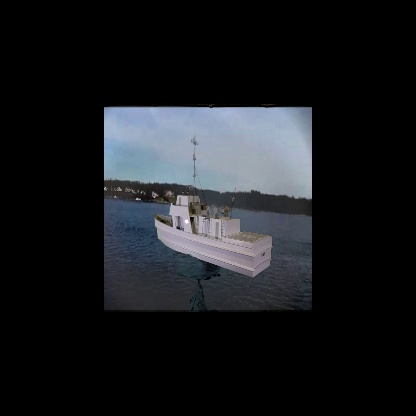YP689: (154, 135, 272, 278)
